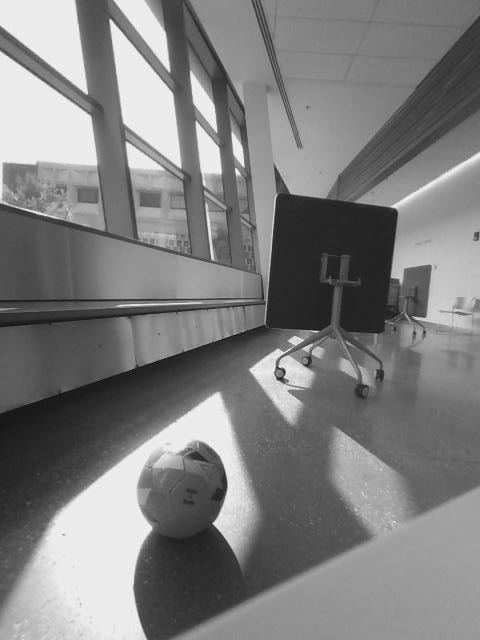ball: (128, 434, 238, 542)
